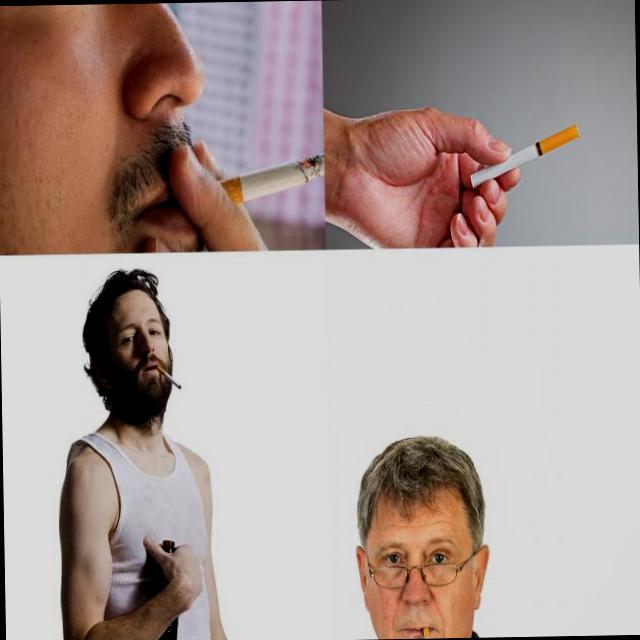cigarette: (200, 136, 324, 218), (468, 122, 582, 190), (155, 364, 182, 390), (418, 621, 434, 637)
